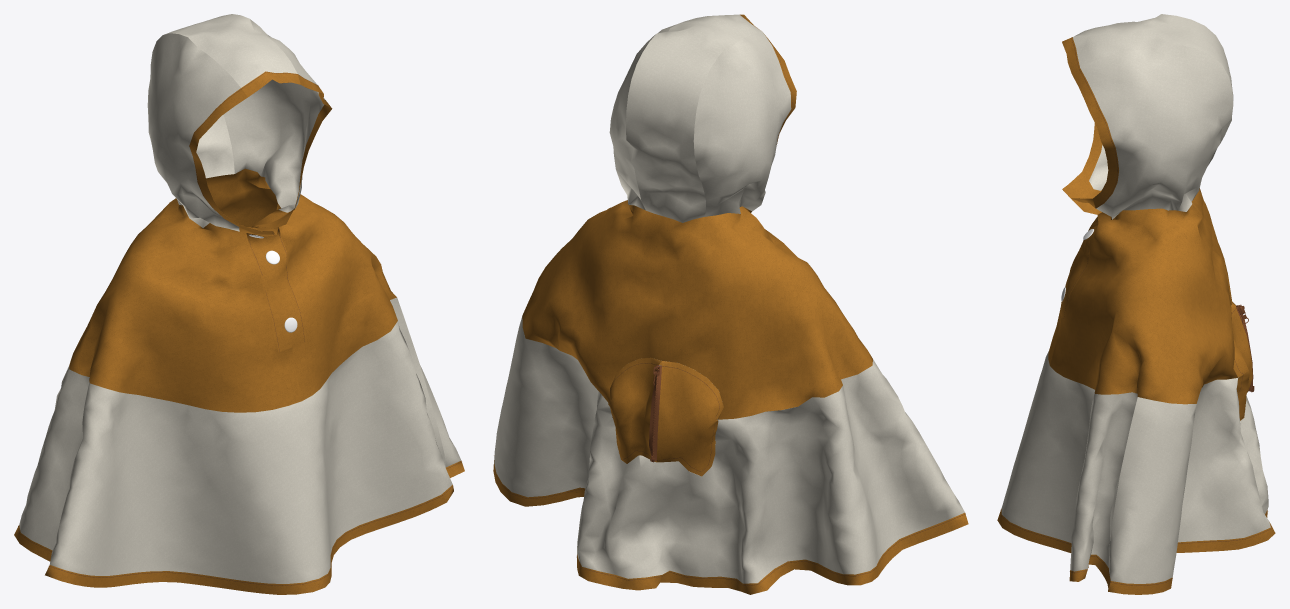
The model's file is Cafe.glb.
3 views of the same model, side by side, from view 1: azimuth 30°, elevation 25°; view 2: azimuth 150°, elevation 25°; view 3: azimuth 270°, elevation 25° (orthographic). The views are drawn at different scales.
Parts seen in each view (by area): view 1: Cloth; view 2: Cloth; view 3: Cloth.
Part boxes in pixels (left/top/right/bottom): Cloth: left=14, top=14, right=464, bottom=594; Cloth: left=493, top=14, right=968, bottom=594; Cloth: left=997, top=14, right=1275, bottom=594.
Bounding box in the file's own units: 0.5699 × 0.6339 × 0.3216.
13 materials, 12 textured.
